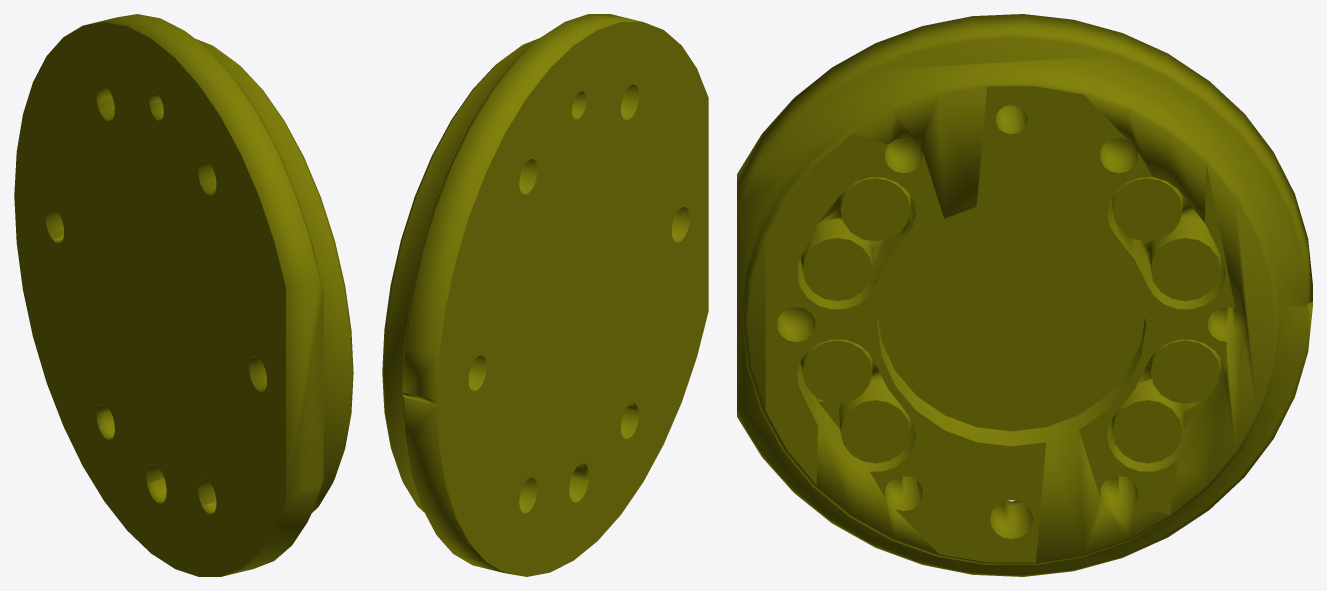
3 renders of one model, left to right at view 1: azimuth 30°, elevation 25°; view 2: azimuth 150°, elevation 25°; view 3: azimuth 270°, elevation 25°, orthographic. The views are drawn at different scales.
Parts seen in each view (by area): view 1: f_1-06vxl70-a0_lk6; view 2: f_1-06vxl70-a0_lk6; view 3: f_1-06vxl70-a0_lk6.
Part boxes in pixels (<box>): f_1-06vxl70-a0_lk6: <box>14,14,353,576</box>; f_1-06vxl70-a0_lk6: <box>382,14,708,576</box>; f_1-06vxl70-a0_lk6: <box>737,14,1312,576</box>.
Size of the model in its own units: 0.0165 by 0.107 by 0.1119.
